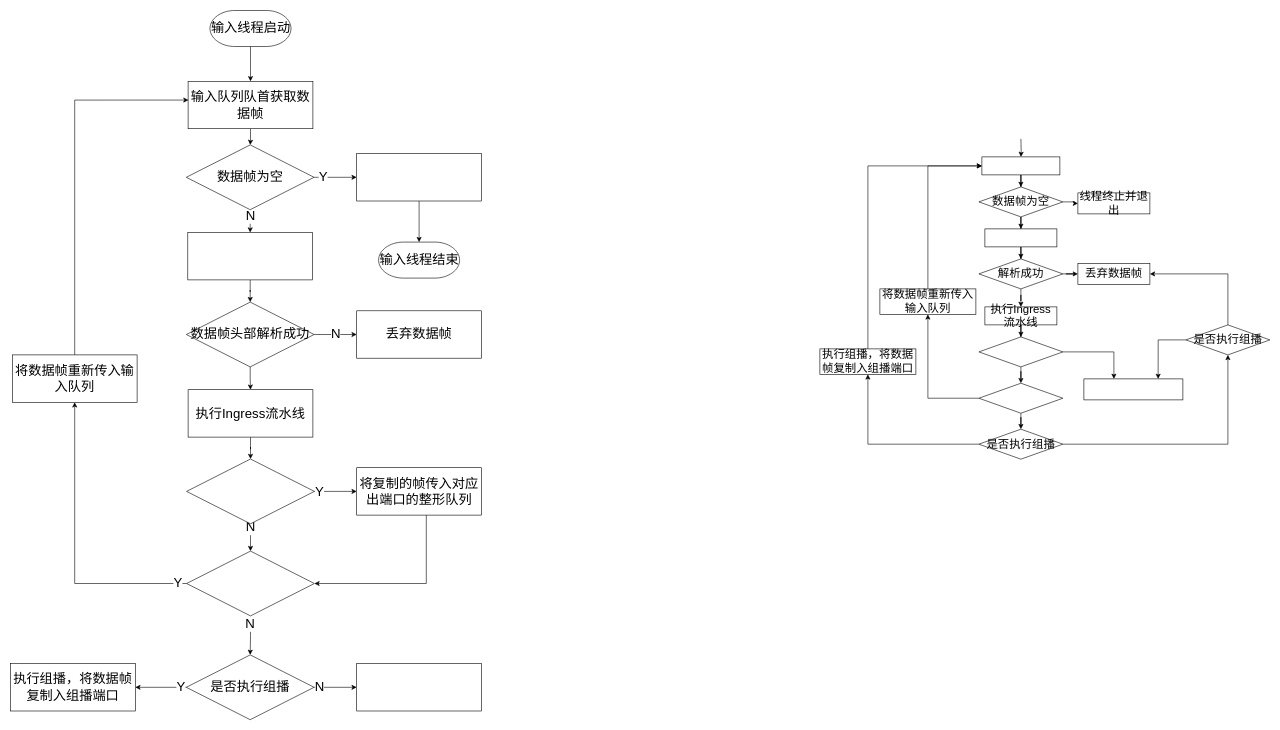
Some shapes in this 1280 by 730 pixel diagram are drawn without their labels. Each missing label, with the centre of its shape:
处理输入队列中下一数据帧: point 419,687
对数据帧头部进行解析: point 250,256
将复制的数据帧传入整形队列: point 1133,389
是否执行包复制: point 1020,351
是否执行包重传: point 1020,398
是否执行帧复制: point 250,491
是否执行帧重传: point 250,583
线程终止退出: point 419,177
解析数据帧头部: point 1020,237
输入队列中获取数据帧: point 1020,165
